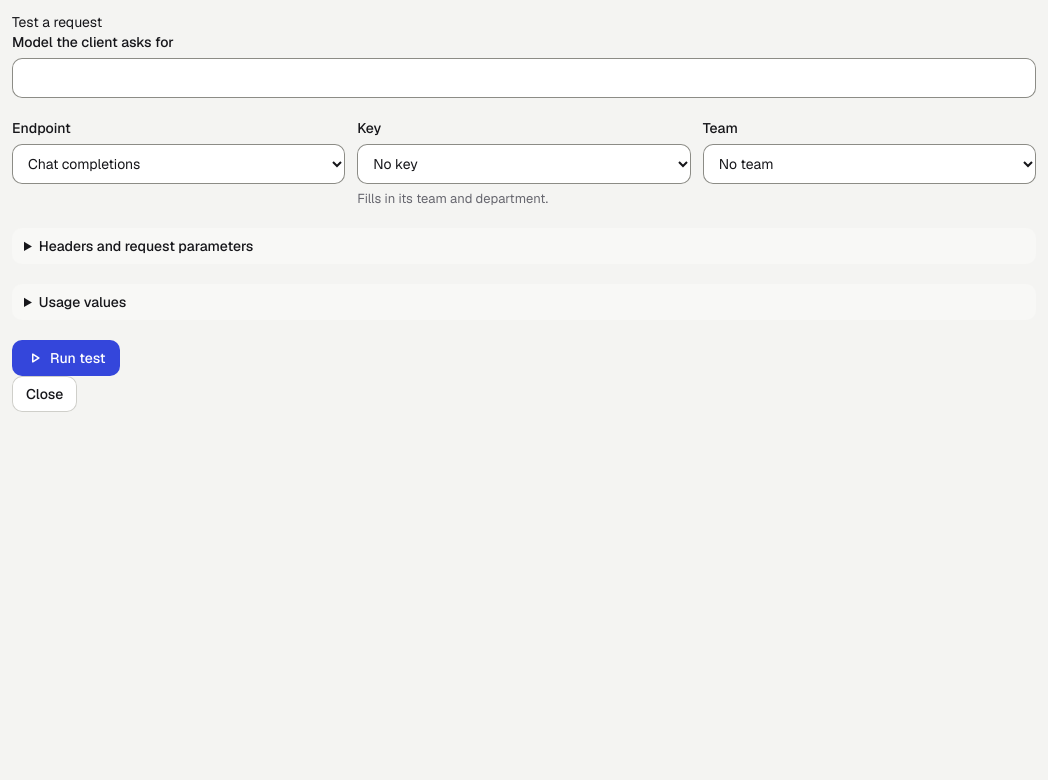
RuleTestDialog › says plainly when no rule matches
Type "ume/chat-standard" into the field with id "test-model" at (524, 78), box [12, 58, 1036, 98]
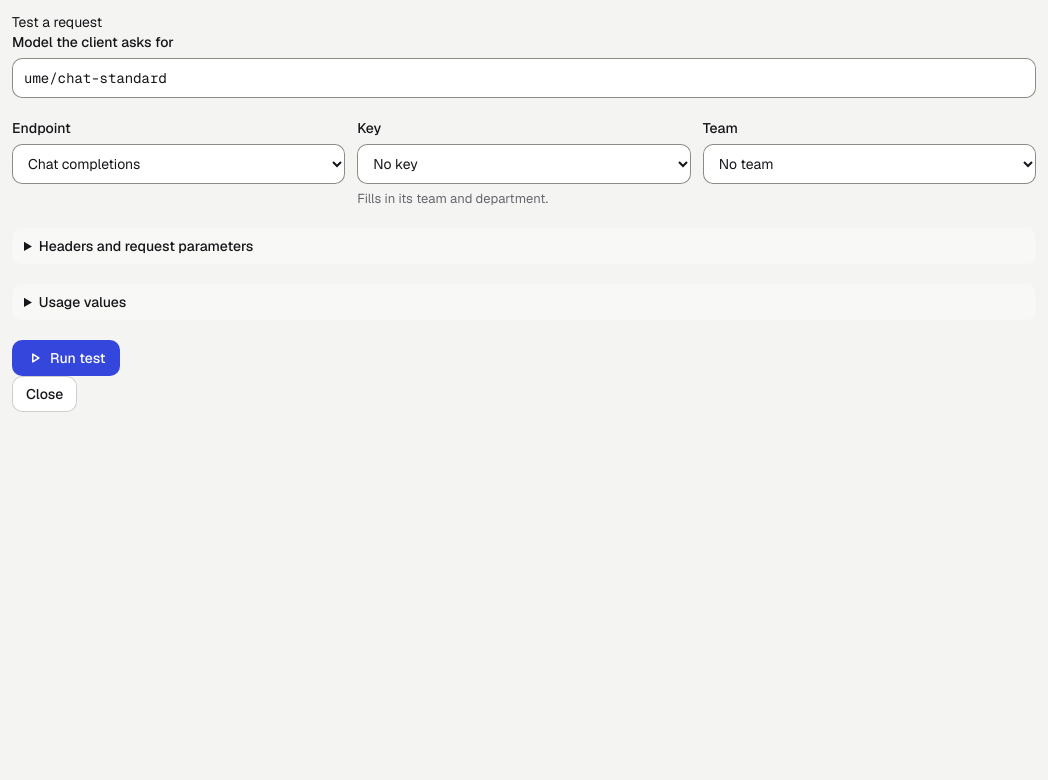
Submit the form, box [12, 32, 1036, 376]
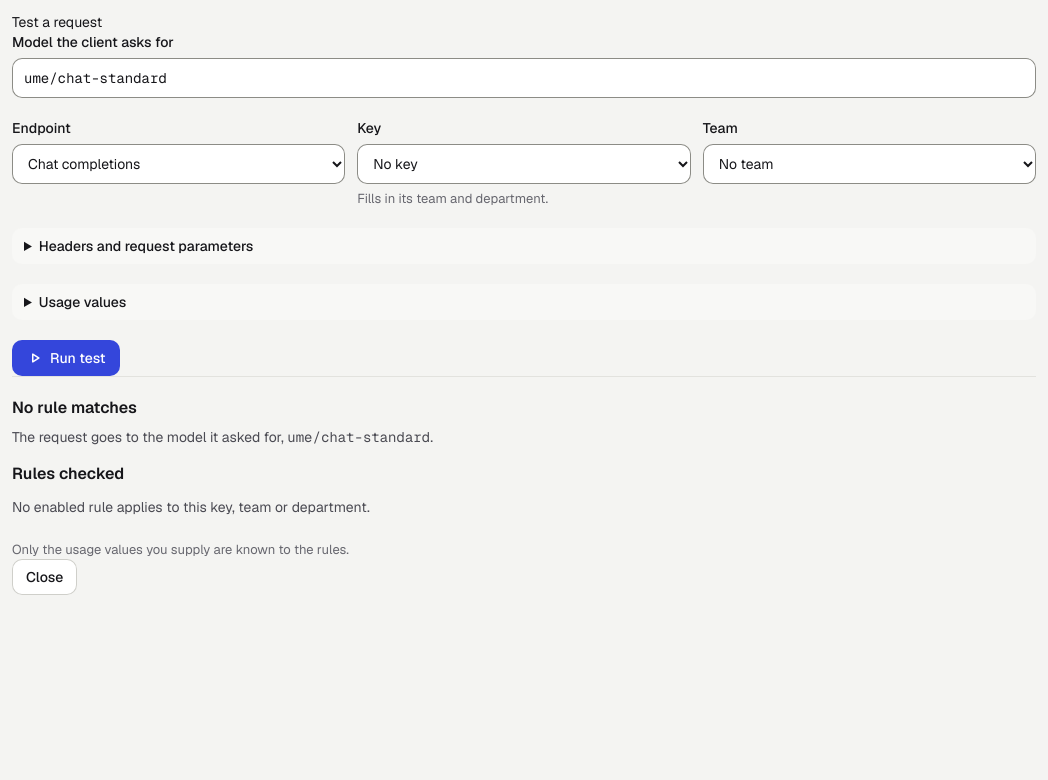
Expected: the text "No rule matches" is shown, [12, 397, 137, 418]
Expected: the text "The request goes to the model it asked for, ume/chat-standard." is shown, [12, 428, 433, 446]
Expected: the text "No enabled rule applies to this key, team or department." is shown, [12, 498, 370, 516]
